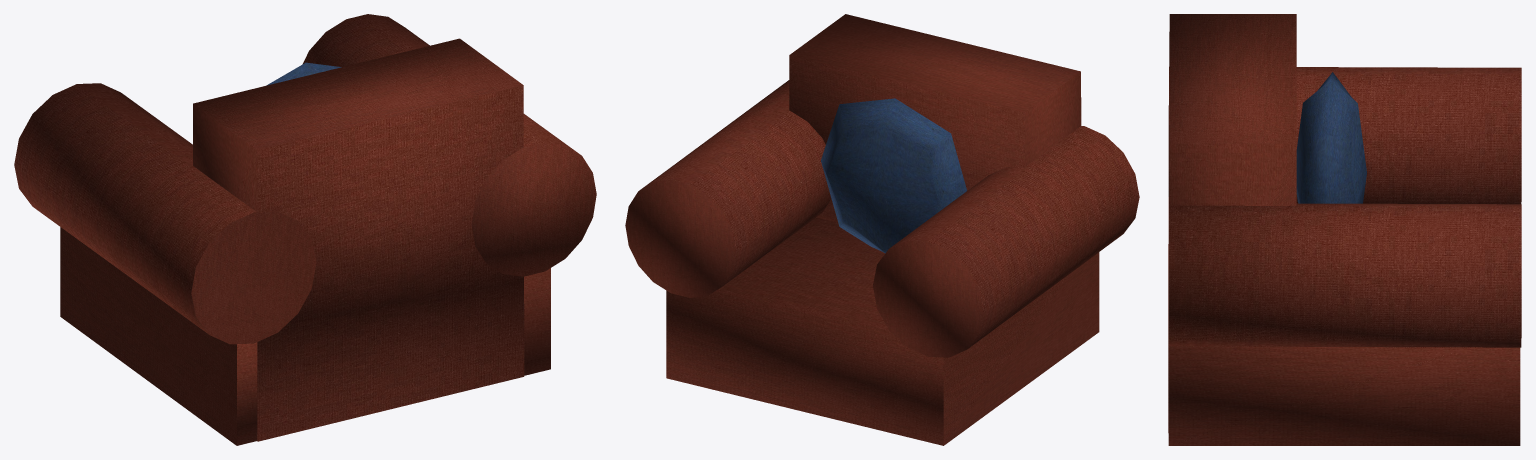
Rendered from SmallCouch.FBX.
3 views of the same model, side by side, from view 1: azimuth 30°, elevation 25°; view 2: azimuth 150°, elevation 25°; view 3: azimuth 270°, elevation 25° (orthographic). The views are drawn at different scales.
Parts seen in each view (by area): view 1: Box002, Box003; view 2: Box002, Box003; view 3: Box002, Box003.
Boxes of the visible parts, left/top/right/bottom form: Box002: left=14, top=14, right=596, bottom=445; Box003: left=266, top=62, right=341, bottom=85; Box002: left=625, top=14, right=1139, bottom=445; Box003: left=821, top=98, right=967, bottom=253; Box002: left=1168, top=14, right=1521, bottom=445; Box003: left=1296, top=72, right=1366, bottom=203.
Bounding box in the file's own units: 36.68 × 25.16 × 27.81.
